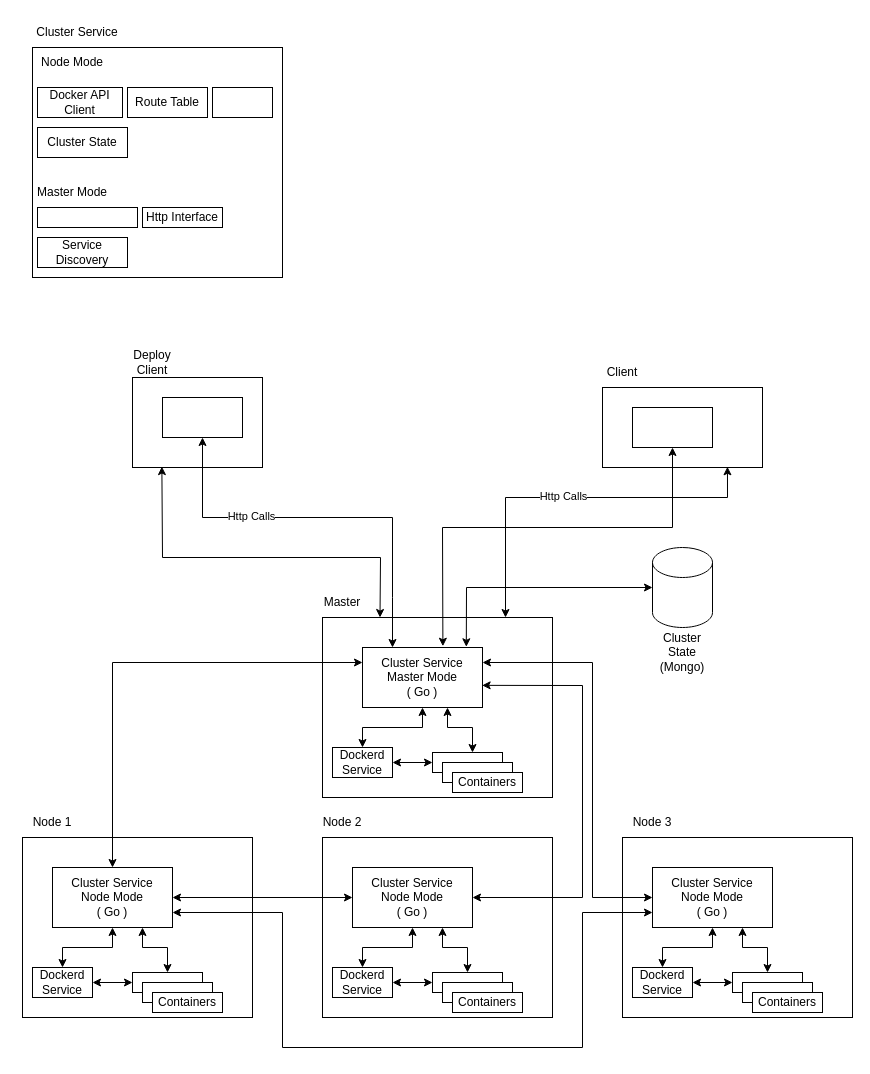
Some shapes in this 870 by 1074 pixel diagram are drawn without their labels. Here are the shapes that lost their labels. From the top down, the centre of each, then its label:
point (242, 102): Proxy
point (87, 217): Cluster Manager
point (202, 417): Cluster Client ( Go )
point (672, 427): Http Client
